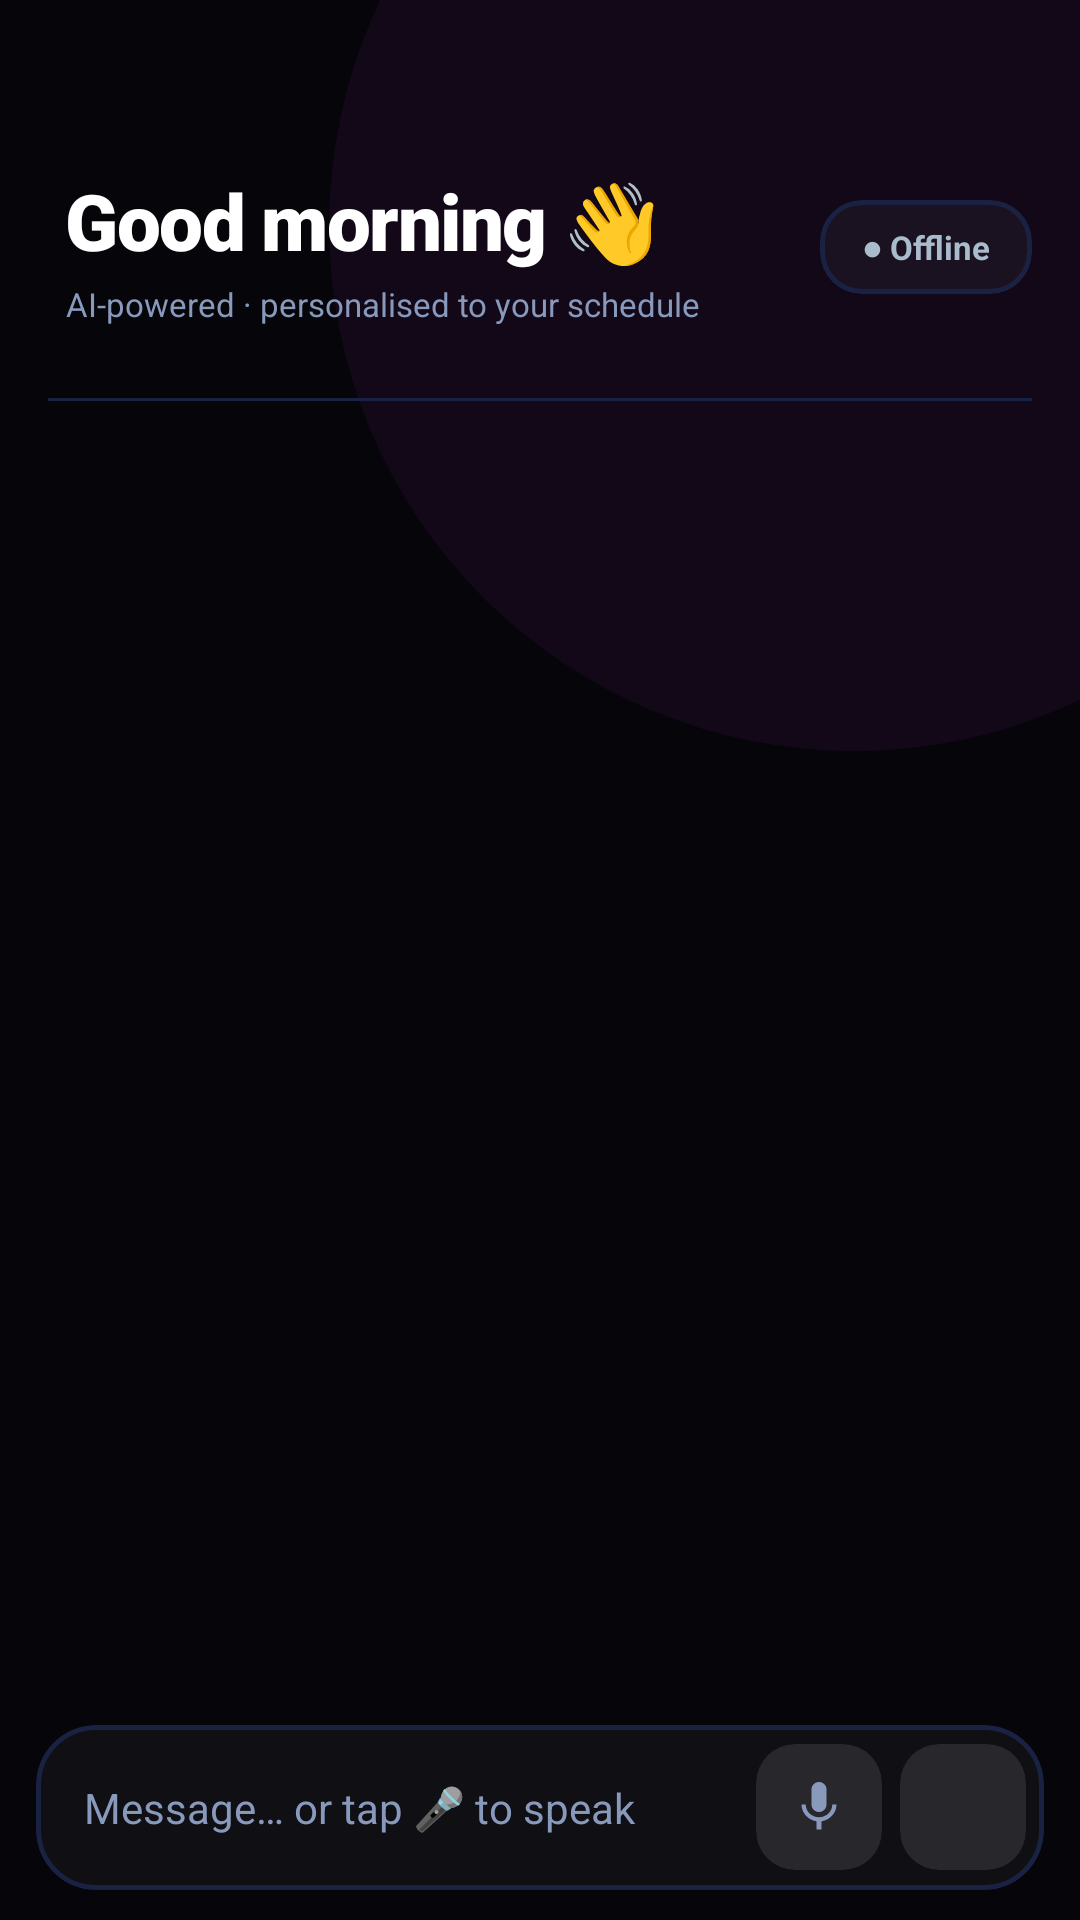

Named icons in this screenshot (1080 x 1920) and their centers, (x=x, y=y):
mic: (x=819, y=1807)
